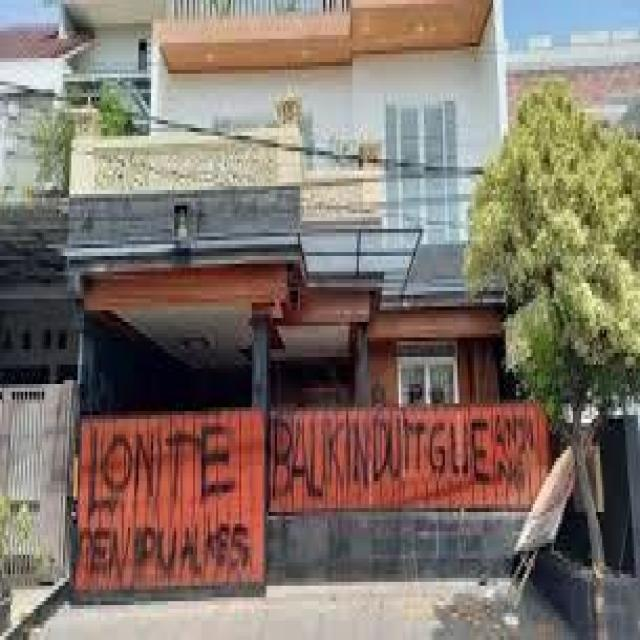nonspitting: (78, 420, 250, 580), (270, 414, 534, 504)
